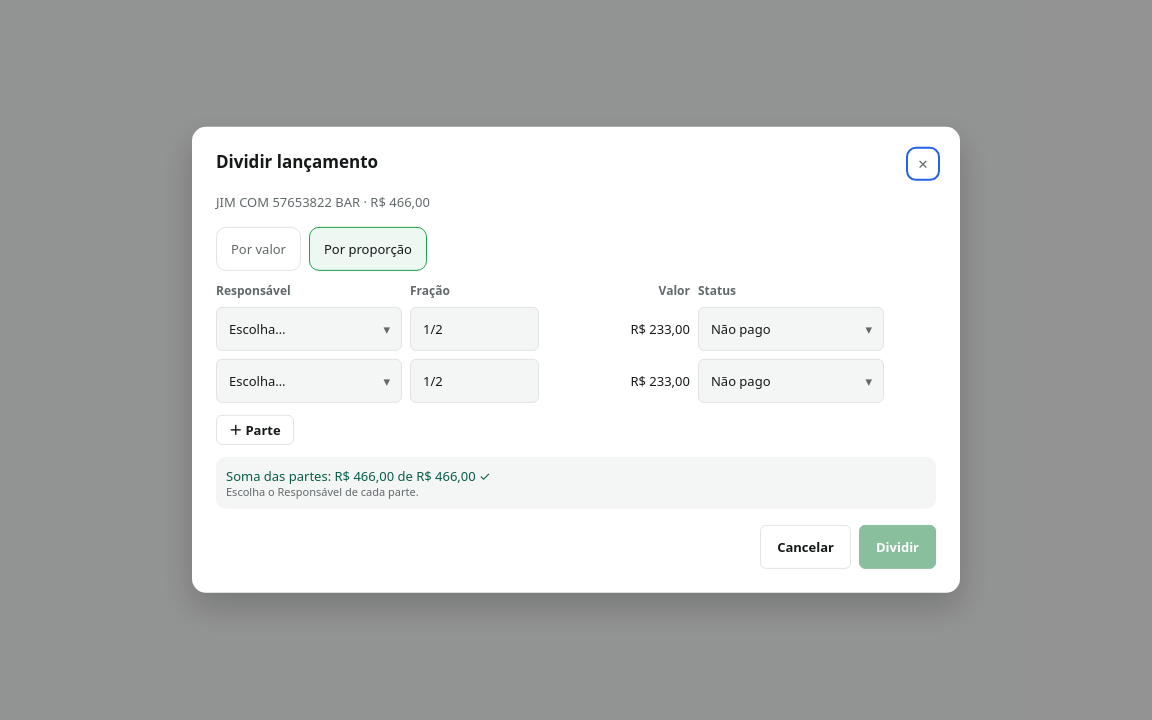
DividirLancamento (controlador) › previstos com outro Responsável: a pergunta 'Só este / Aplicar a todos'
Select "Casal" in the dropdown named "Responsável 1" at (309, 329), box x1=216 y1=307 x2=402 y2=351
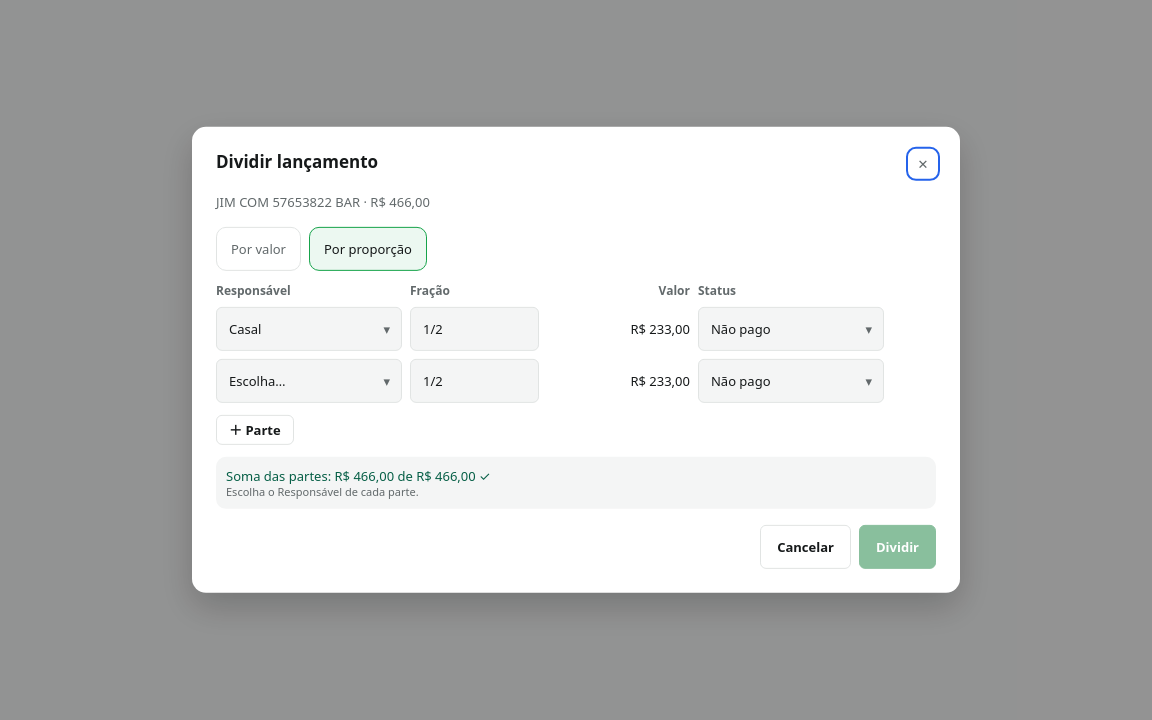
Select "Rafael" in the dropdown named "Responsável 2" at (309, 381), box x1=216 y1=359 x2=402 y2=403
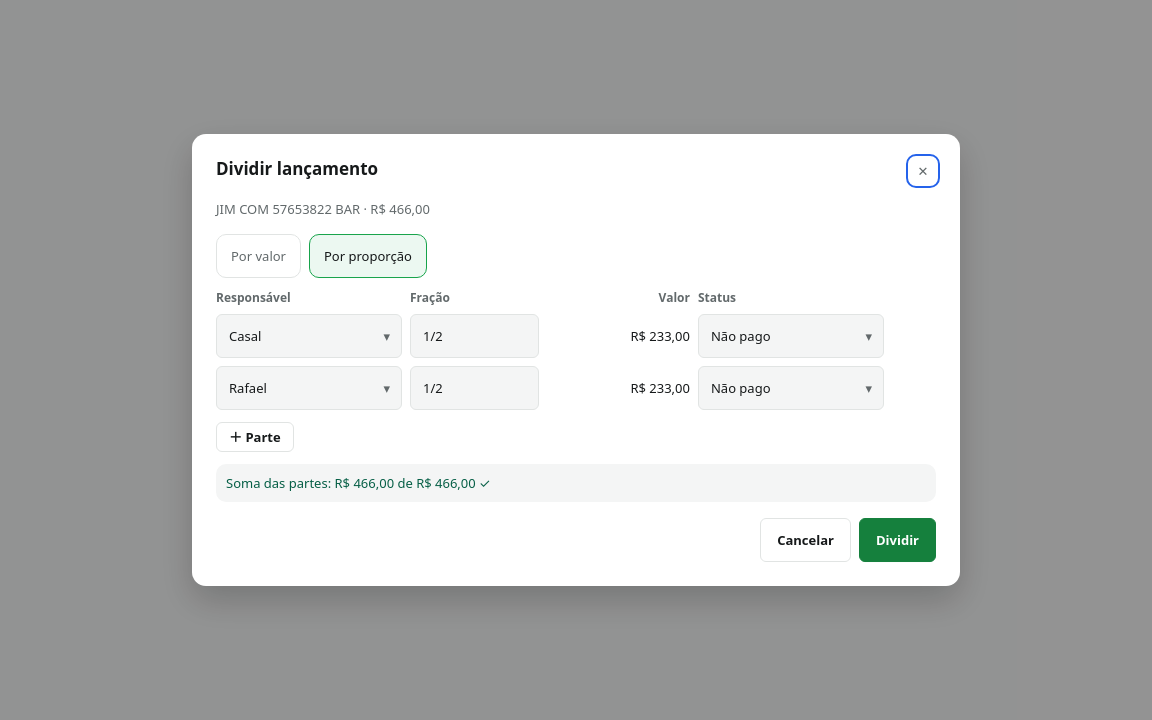
Type "2/3" into the field named "Fração 1".
click(474, 336); type("2/3")  # box x1=410 y1=314 x2=539 y2=358
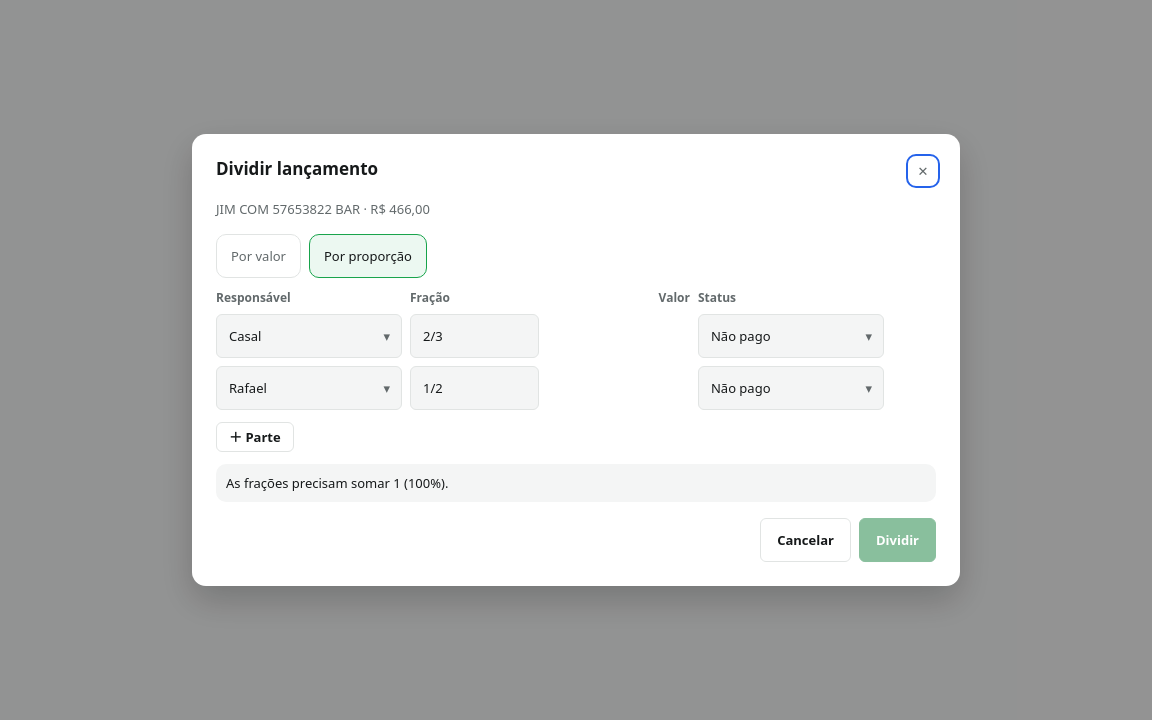
Type "1/3" into the field named "Fração 2".
click(474, 388); type("1/3")  # box x1=410 y1=366 x2=539 y2=410
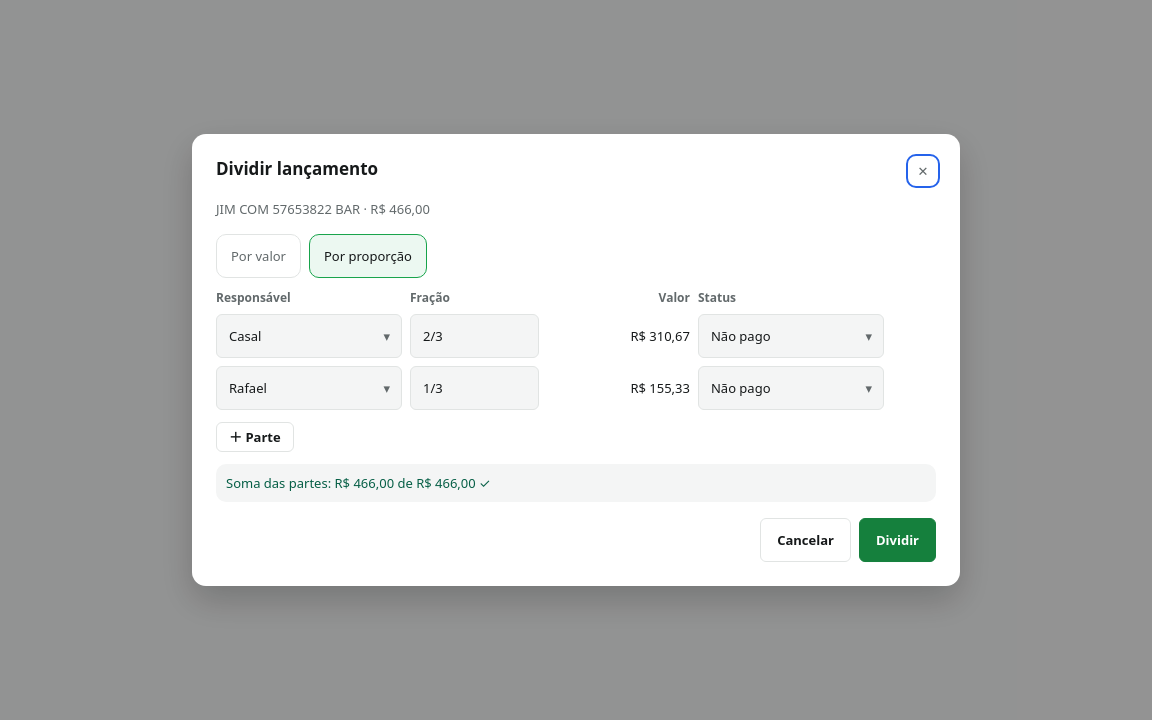
Click the button "Dividir".
click(898, 540)  # box x1=859 y1=518 x2=936 y2=562
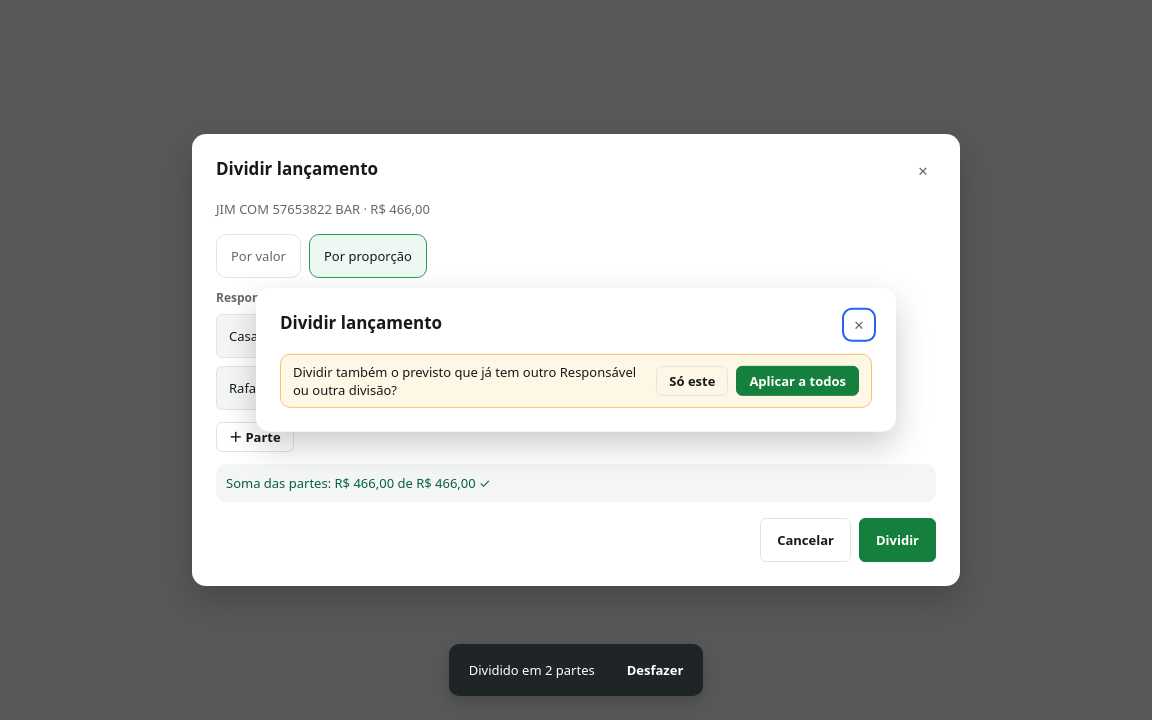
Check: the text "Dividir também o previsto" is shown, box x1=293 y1=363 x2=636 y2=399
Click the button "Aplicar a todos".
click(798, 381)  # box x1=736 y1=366 x2=859 y2=396
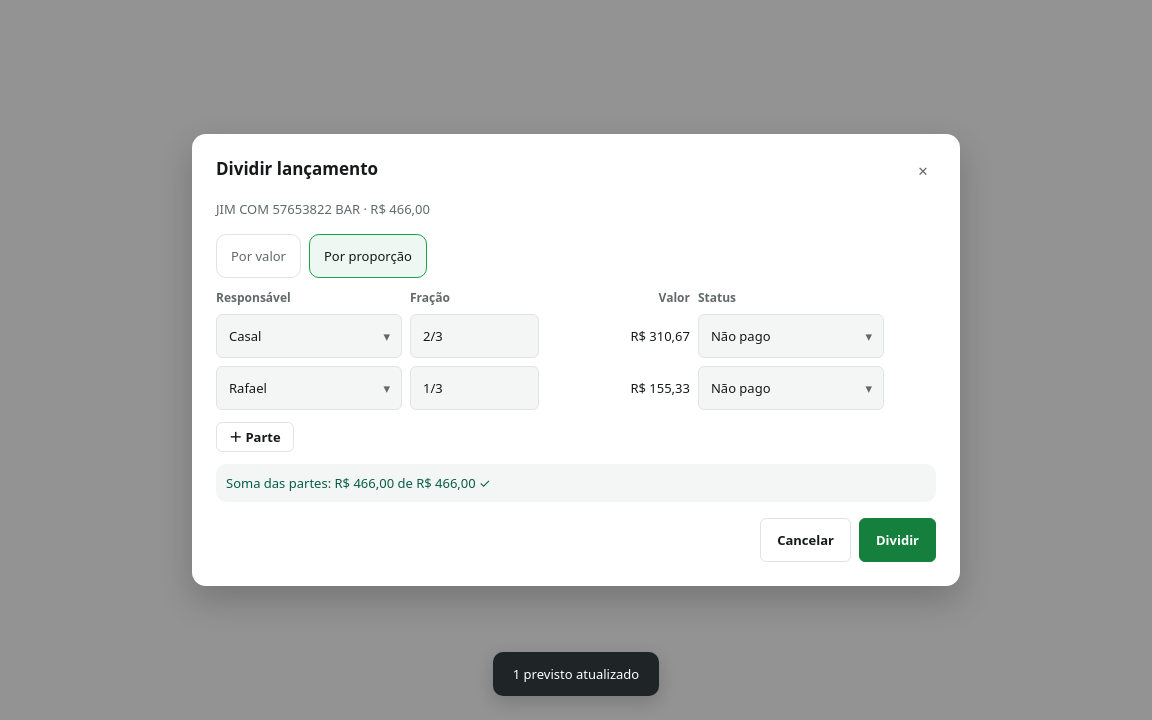
Check: the text "1 previsto atualizado" is shown, box x1=513 y1=665 x2=639 y2=683
